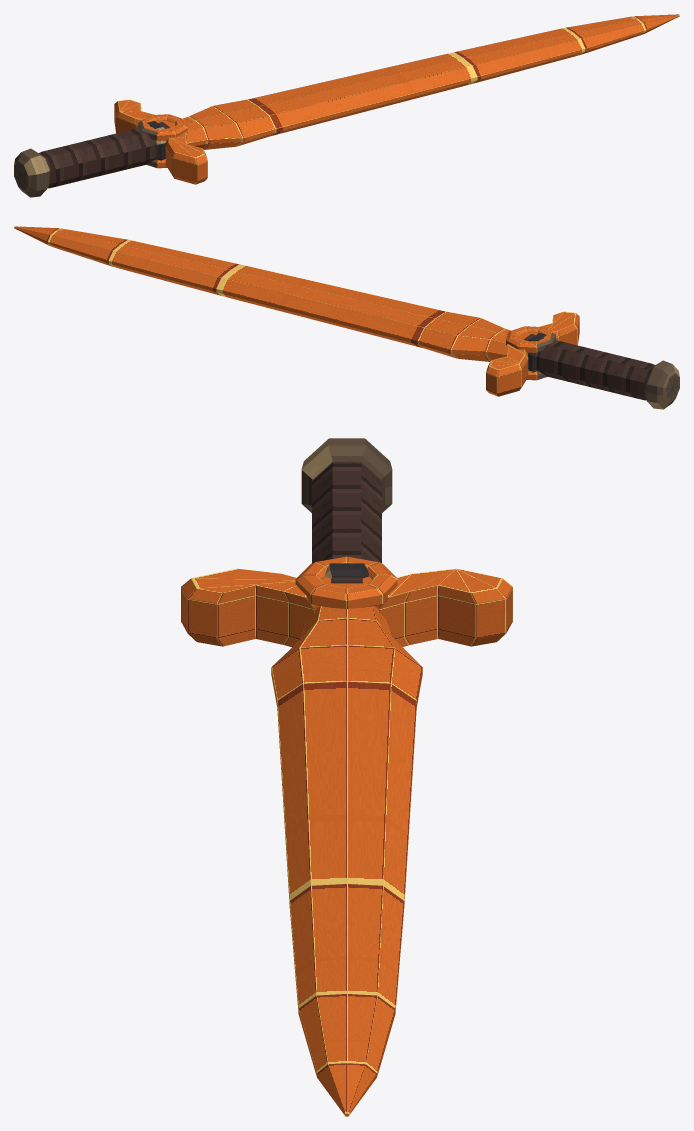
Rendered from bench_qingxiao_liuyun_sword_5_hot.obj.
3 renders of one model, top to bottom at view 1: azimuth 30°, elevation 25°; view 2: azimuth 150°, elevation 25°; view 3: azimuth 270°, elevation 25°, orthographic. The views are drawn at different scales.
Visible parts, largest first — view 1: geometry; view 2: geometry; view 3: geometry.
Part boxes in pixels (x1=…): geometry: x1=14, y1=14, x2=679, y2=197; geometry: x1=14, y1=226, x2=679, y2=409; geometry: x1=181, y1=438, x2=512, y2=1116.
Bounding box in the file's own units: 0.75 × 0.0449 × 0.1637.
